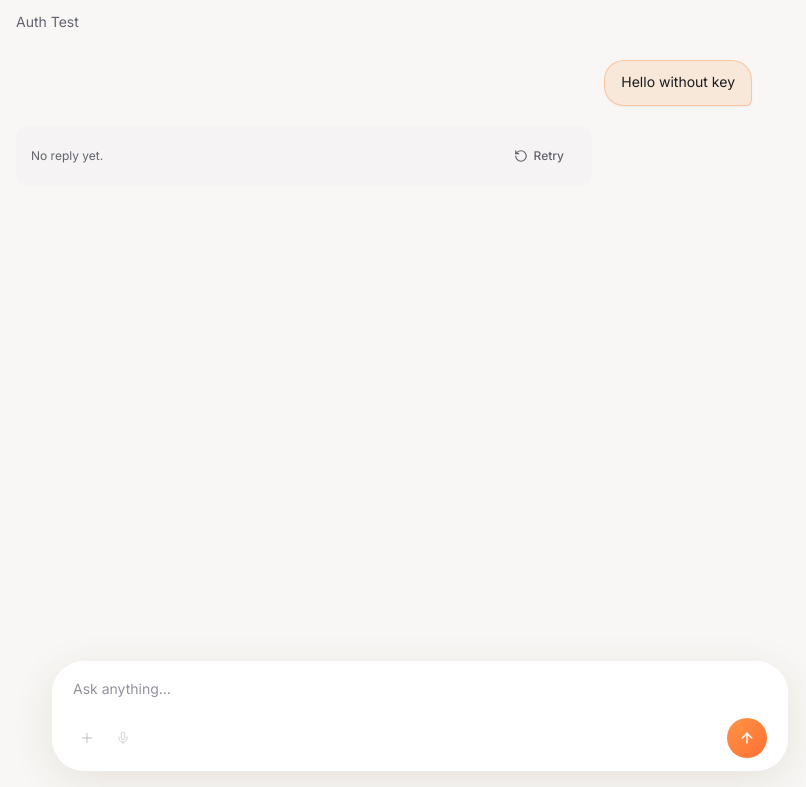
Test: M1.4b Chat Reliability and Unanswered State › shows error panel under user message when error occurred before reply started (e.g. auth / missing key)
Note: Initial render shows "No reply yet."
Click the button "Retry". click: (539, 156)
box: [500,140,577,170]
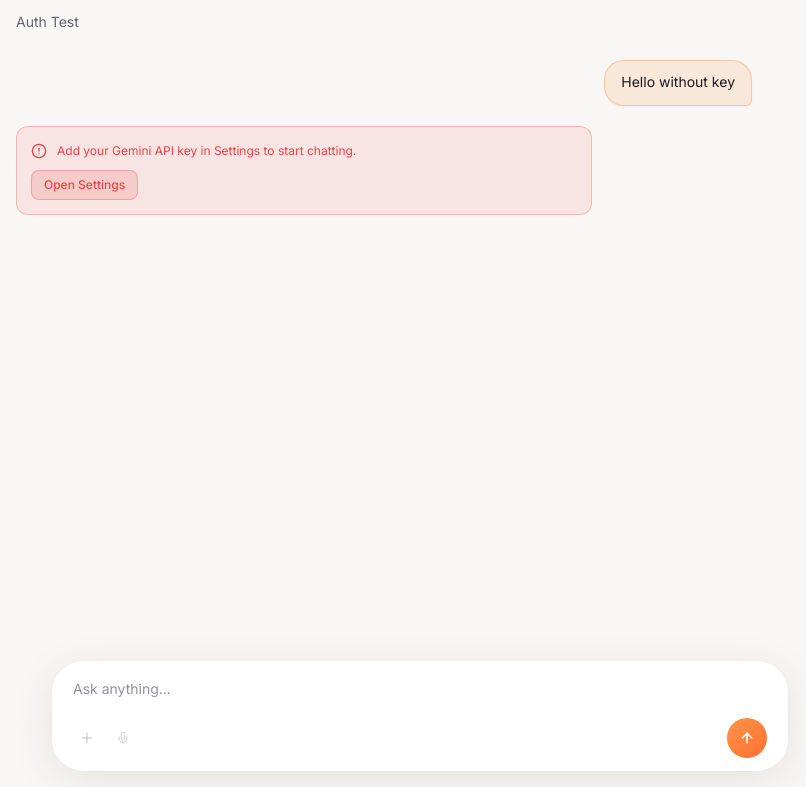
Now the text "Add your Gemini API key in Settings to start chatting." is shown, box [57,142,356,158]
Now the link "Open Settings" is shown, box [31,170,138,200]
